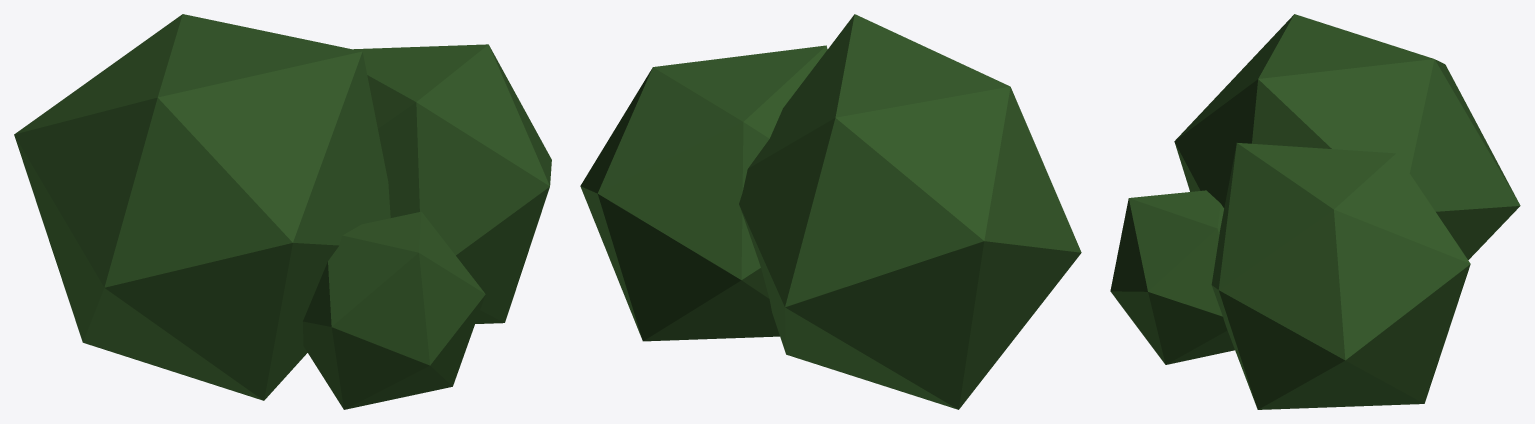
Rendered from Bush6.fbx.
3 views of the same model, side by side, from view 1: azimuth 30°, elevation 25°; view 2: azimuth 150°, elevation 25°; view 3: azimuth 270°, elevation 25° (orthographic). The views are drawn at different scales.
Visible parts, largest first — view 1: Cube.009; view 2: Cube.009; view 3: Cube.009.
Boxes of the visible parts, <box> form: Cube.009: <box>14,14,551,409</box>; Cube.009: <box>580,14,1081,409</box>; Cube.009: <box>1110,14,1520,409</box>.
Bounding box in the file's own units: 150 × 90.07 × 124.
